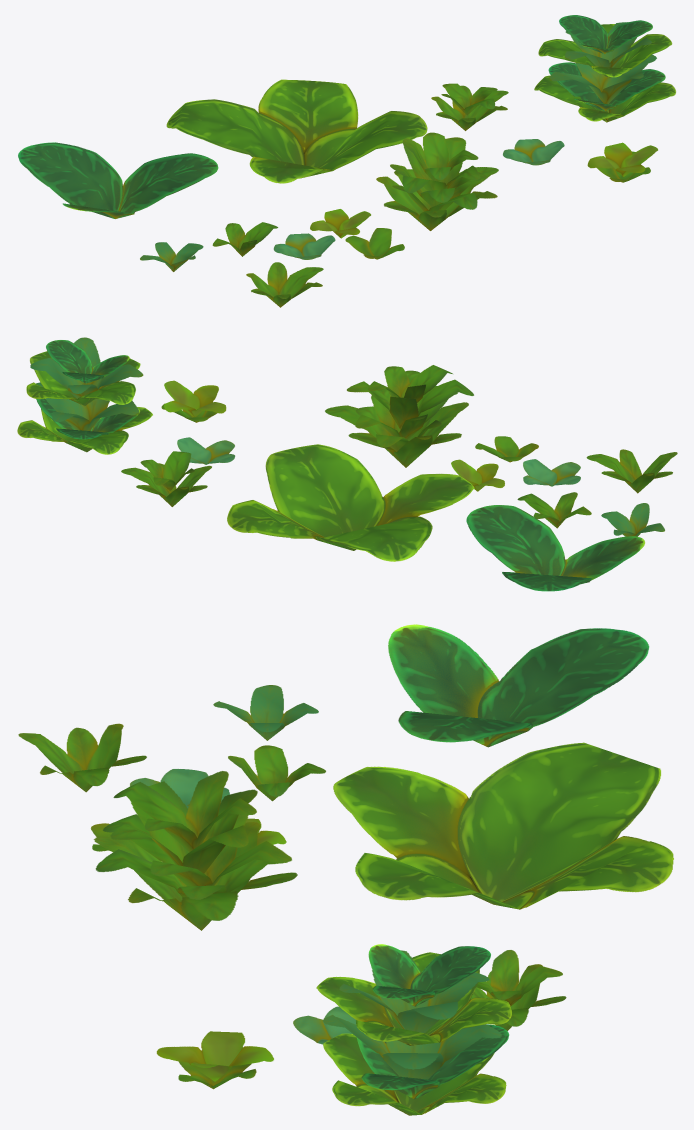
The model's file is stylized_foliage.glb.
The picture shows the model from 3 angles, top to bottom: view 1: azimuth 30°, elevation 25°; view 2: azimuth 150°, elevation 25°; view 3: azimuth 270°, elevation 25°; orthographic projection. The views are drawn at different scales.
Visible parts, largest first — view 1: foliage_plane_low.002_3, foliage_plane_low.011_11, foliage_plane_low.003_4, foliage_plane_low.001_2, foliage_plane_low.012_12, foliage_plane_low.004_5, foliage_plane_low.014_13, foliage_plane_low.007_8, foliage_plane_low.015_14, foliage_plane_low.008_9, foliage_plane_low.006_7, foliage_plane_low.005_6 (+1 smaller); view 2: foliage_plane_low.002_3, foliage_plane_low.011_11, foliage_plane_low.003_4, foliage_plane_low.001_2, foliage_plane_low.012_12, foliage_plane_low.014_13, foliage_plane_low.004_5, foliage_plane_low.007_8, foliage_plane_low.008_9, foliage_plane_low.009_10, foliage_plane_low.015_14, foliage_plane_low.005_6 (+1 smaller); view 3: foliage_plane_low.002_3, foliage_plane_low.011_11, foliage_plane_low.003_4, foliage_plane_low.001_2, foliage_plane_low.004_5, foliage_plane_low.014_13, foliage_plane_low.012_12, foliage_plane_low.009_10, foliage_plane_low.008_9, foliage_plane_low.007_8, foliage_plane_low.015_14.
Part boxes in pixels (left/top/right/bottom): foliage_plane_low.002_3: left=166, top=79, right=427, bottom=183; foliage_plane_low.011_11: left=534, top=15, right=675, bottom=122; foliage_plane_low.003_4: left=18, top=142, right=218, bottom=218; foliage_plane_low.001_2: left=376, top=132, right=498, bottom=230; foliage_plane_low.012_12: left=431, top=83, right=508, bottom=130; foliage_plane_low.004_5: left=246, top=262, right=323, bottom=307; foliage_plane_low.014_13: left=587, top=142, right=657, bottom=182; foliage_plane_low.007_8: left=273, top=233, right=335, bottom=259; foliage_plane_low.015_14: left=503, top=139, right=564, bottom=165; foliage_plane_low.008_9: left=212, top=222, right=278, bottom=256; foliage_plane_low.006_7: left=345, top=228, right=404, bottom=259; foliage_plane_low.005_6: left=310, top=209, right=370, bottom=238; foliage_plane_low.002_3: left=227, top=444, right=474, bottom=561; foliage_plane_low.011_11: left=17, top=337, right=152, bottom=454; foliage_plane_low.003_4: left=466, top=505, right=645, bottom=591; foliage_plane_low.001_2: left=325, top=365, right=473, bottom=467; foliage_plane_low.012_12: left=121, top=451, right=211, bottom=506; foliage_plane_low.014_13: left=161, top=380, right=226, bottom=422; foliage_plane_low.004_5: left=586, top=449, right=677, bottom=493; foliage_plane_low.007_8: left=523, top=459, right=580, bottom=486; foliage_plane_low.008_9: left=517, top=492, right=591, bottom=528; foliage_plane_low.009_10: left=601, top=503, right=664, bottom=536; foliage_plane_low.015_14: left=177, top=437, right=235, bottom=464; foliage_plane_low.005_6: left=451, top=459, right=504, bottom=491; foliage_plane_low.002_3: left=333, top=742, right=673, bottom=909; foliage_plane_low.011_11: left=316, top=944, right=511, bottom=1115; foliage_plane_low.003_4: left=388, top=624, right=649, bottom=747; foliage_plane_low.001_2: left=93, top=771, right=297, bottom=930; foliage_plane_low.004_5: left=18, top=723, right=146, bottom=792; foliage_plane_low.014_13: left=156, top=1031, right=273, bottom=1089; foliage_plane_low.012_12: left=470, top=950, right=566, bottom=1030; foliage_plane_low.009_10: left=213, top=685, right=318, bottom=740; foliage_plane_low.008_9: left=228, top=745, right=325, bottom=801; foliage_plane_low.007_8: left=130, top=769, right=229, bottom=808; foliage_plane_low.015_14: left=293, top=1006, right=356, bottom=1044.
Size of the model in its own units: 2.17 by 0.3474 by 1.3.
1 material, 1 textured.
